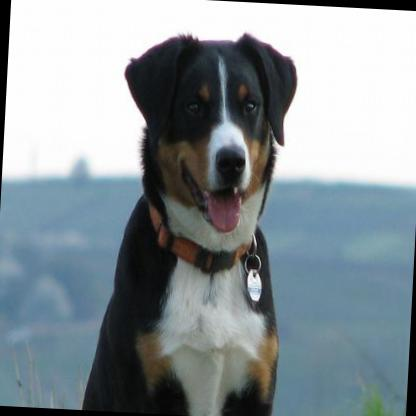Appenzeller: (78, 20, 303, 416)
